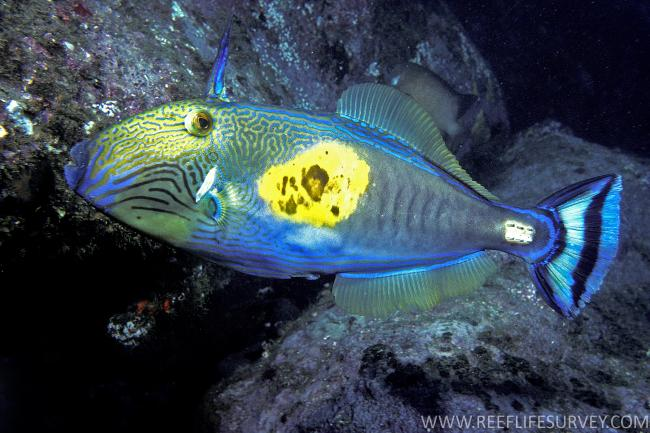fish: (63, 3, 624, 321)
